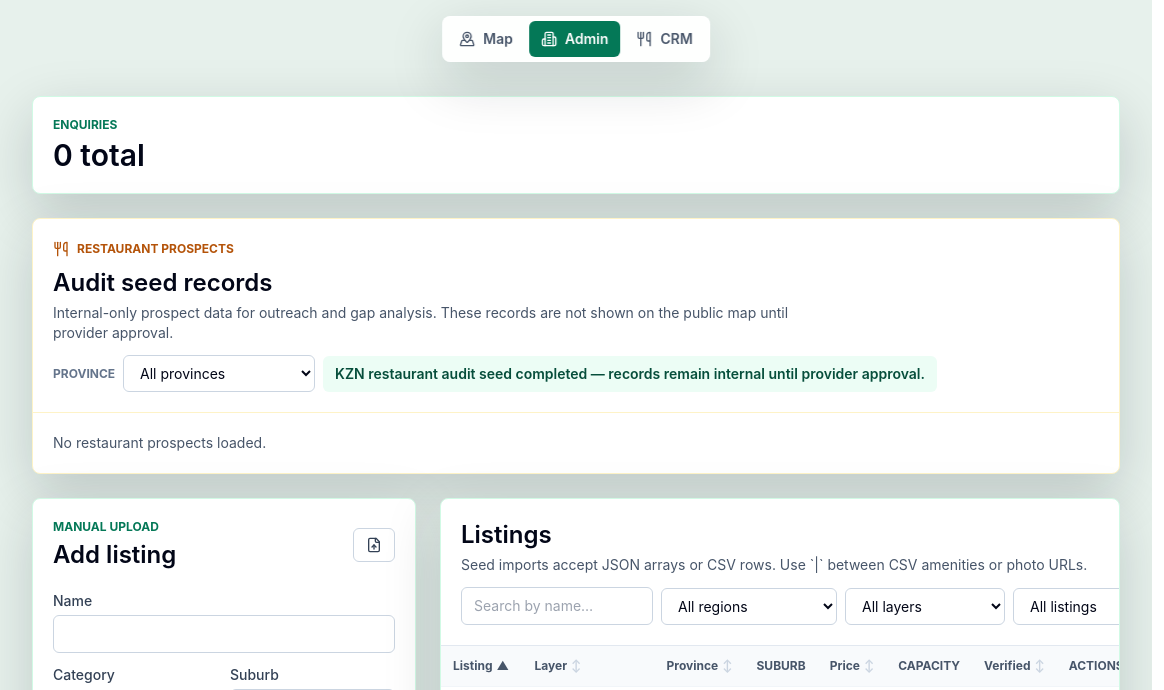
Scenario: name search and region filter combine
The image size is (1164, 690).
Select "Gauteng" in the 1st dropdown named "Region" at (749, 606), box [661,588,837,624]
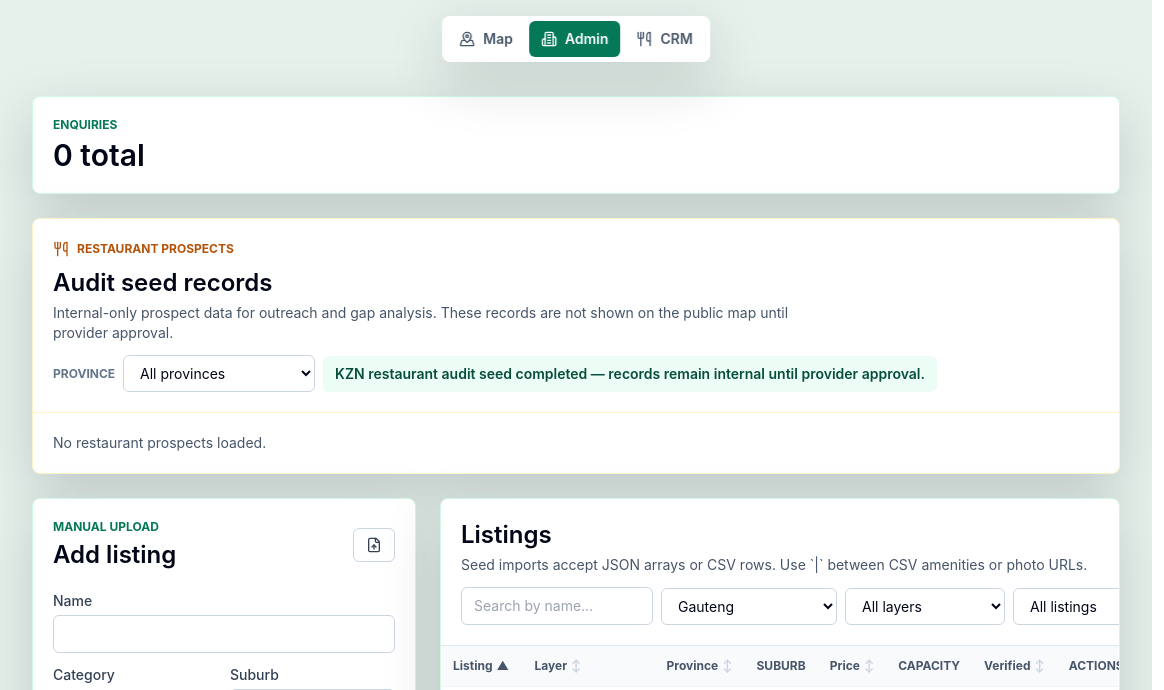
Type "cape" into the search field labelled "Search" at (557, 606), box [461,587,653,625]
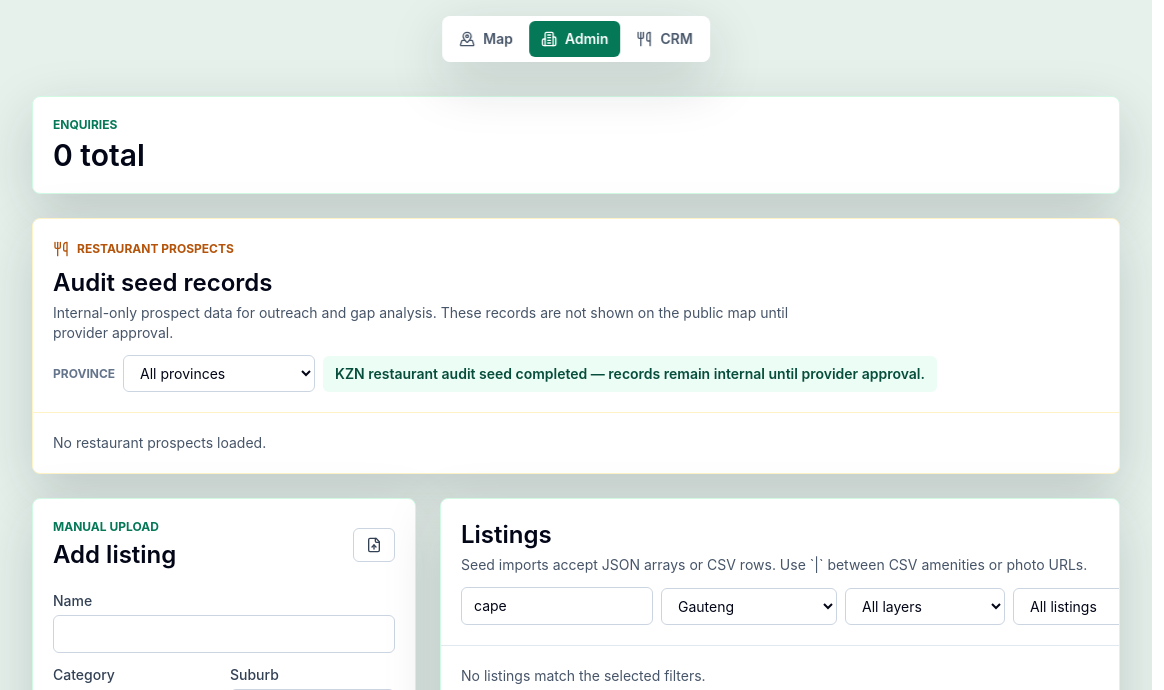
Now the text "No listings match the selected filters." is shown, box [461,667,706,684]
